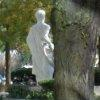Statue: (18, 6, 62, 83)
